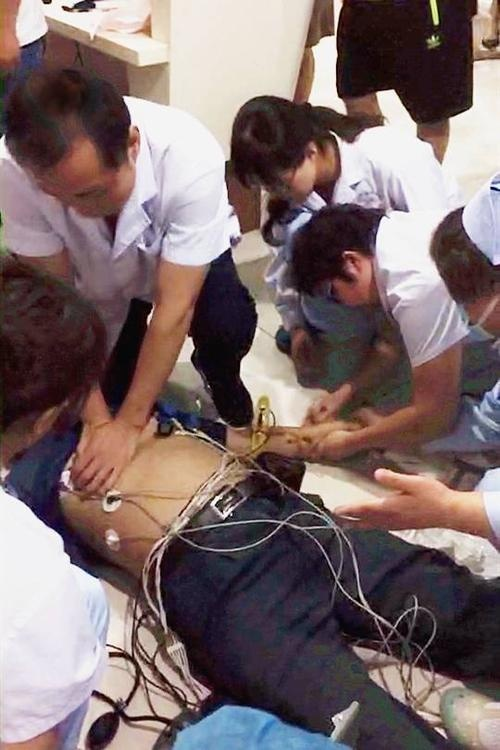falling: (14, 336, 486, 747)
